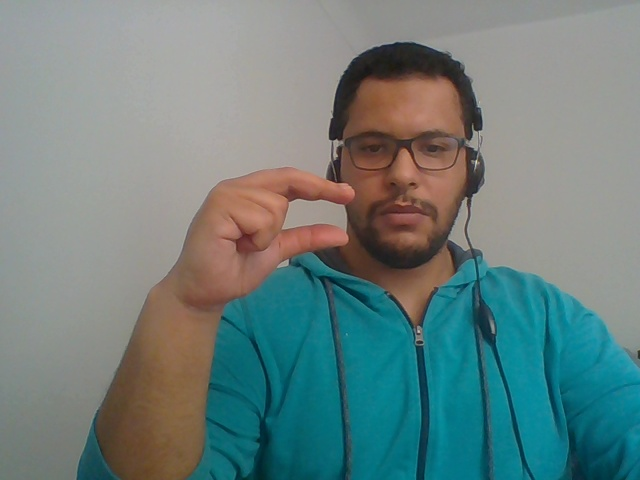no: (146, 139, 375, 349)
